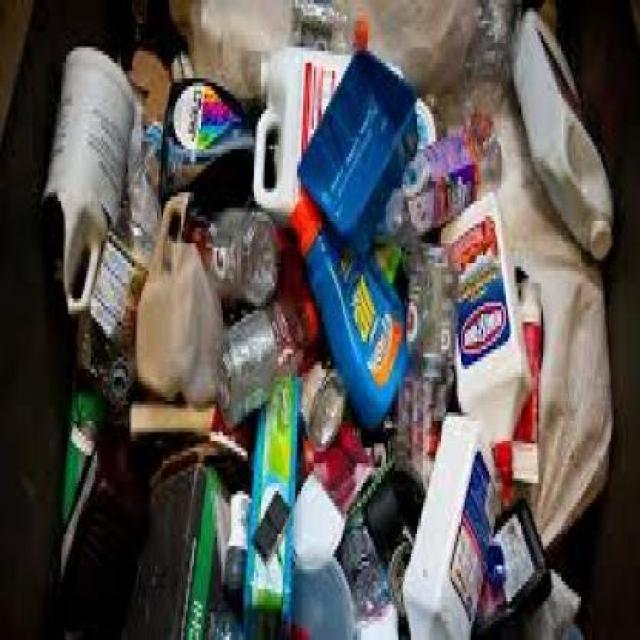garbage: (40, 0, 631, 635)
